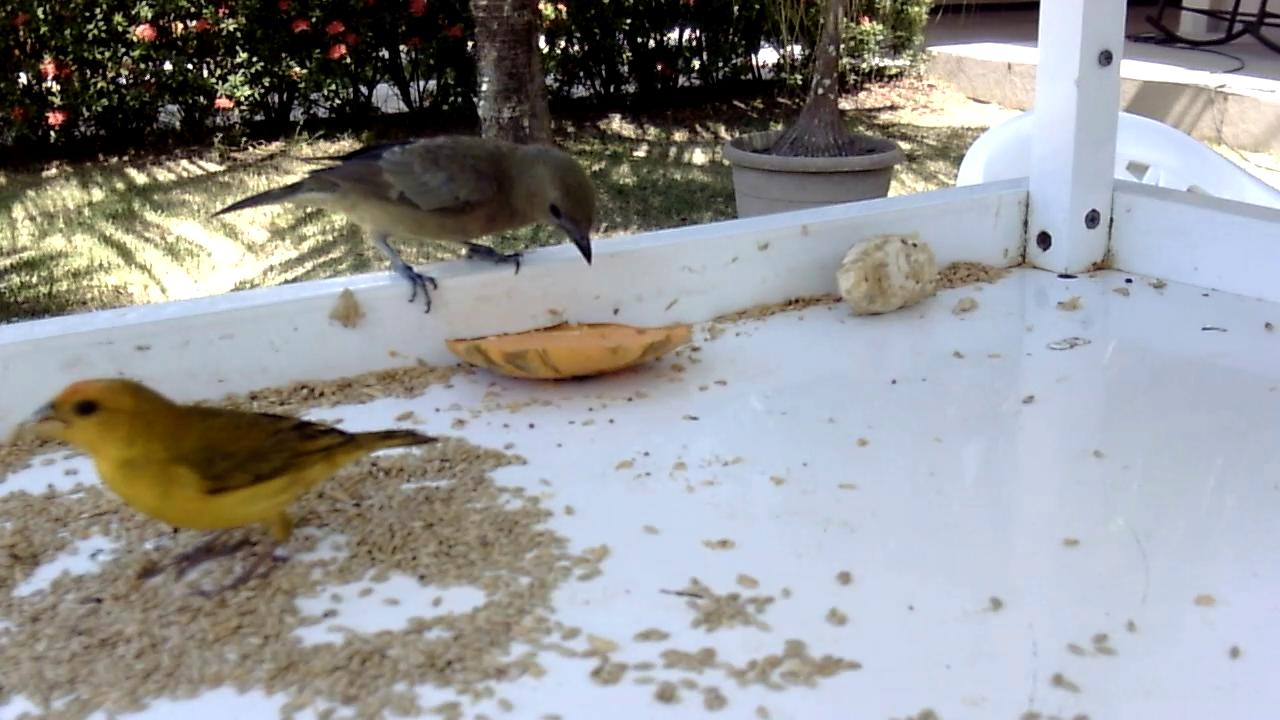canario_do_amazonas: (33, 379, 440, 592)
sanhaco_do_coqueiro: (211, 131, 600, 315)
